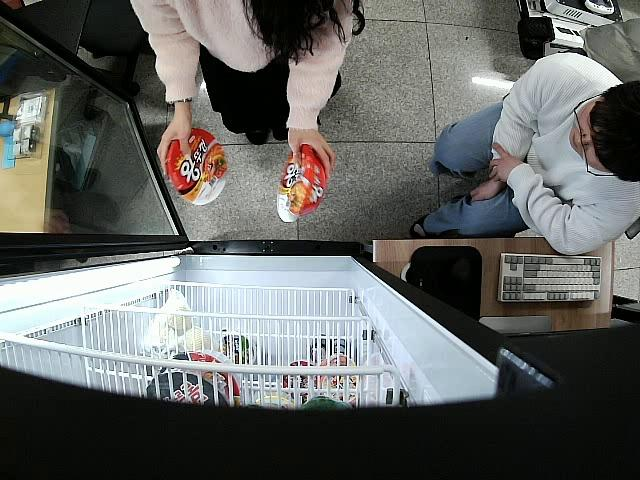00_hand: (156, 104, 193, 179), (285, 128, 336, 180), (487, 139, 521, 186)
10_wangTtukkeong: (167, 127, 230, 208), (276, 145, 326, 224)
